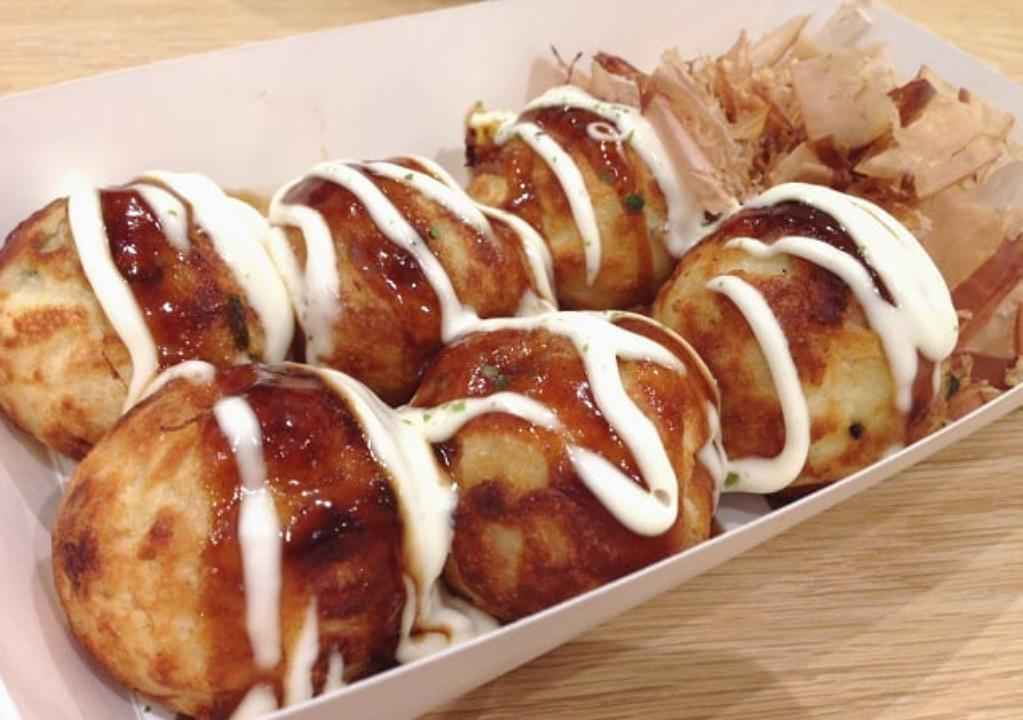takoyaki: (2, 2, 1023, 714)
